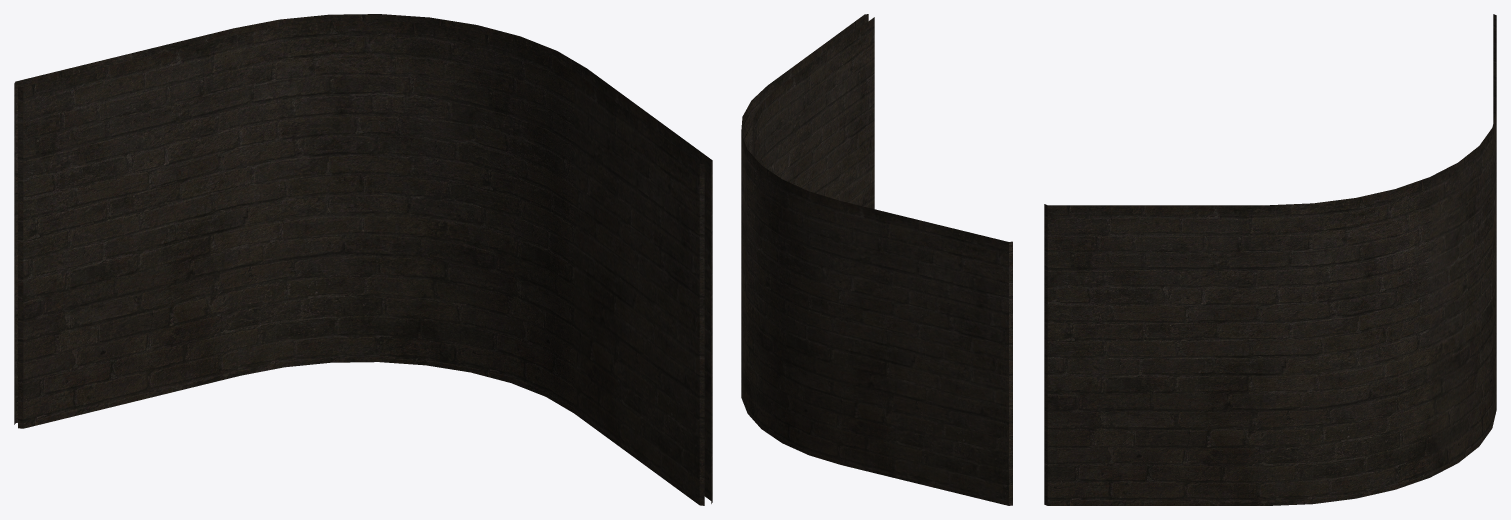
Rendered from wall_1_rounded_corner.obj.
The picture shows the model from 3 angles, left to right: view 1: azimuth 30°, elevation 25°; view 2: azimuth 150°, elevation 25°; view 3: azimuth 270°, elevation 25°; orthographic projection. The views are drawn at different scales.
Visible parts, largest first — view 1: wall_1_rounded_corner; view 2: wall_1_rounded_corner; view 3: wall_1_rounded_corner.
Boxes of the visible parts, left/top/right/bottom form: wall_1_rounded_corner: left=14, top=14, right=712, bottom=505; wall_1_rounded_corner: left=741, top=14, right=1012, bottom=505; wall_1_rounded_corner: left=1044, top=14, right=1496, bottom=505.
Size of the model in its own units: 4.09 by 3 by 4.09.
